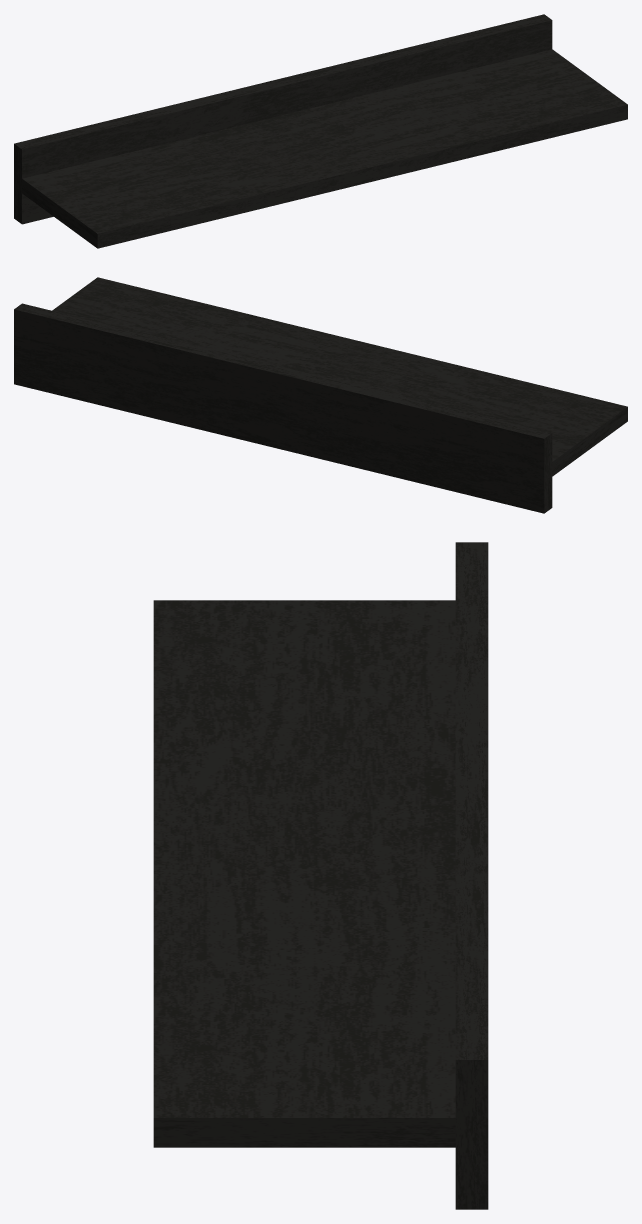
The model's file is wall_cabinet_004.fbx.
The picture shows the model from 3 angles, top to bottom: view 1: azimuth 30°, elevation 25°; view 2: azimuth 150°, elevation 25°; view 3: azimuth 270°, elevation 25°; orthographic projection. The views are drawn at different scales.
Visible parts, largest first — view 1: wall_cabinet_004; view 2: wall_cabinet_004; view 3: wall_cabinet_004.
Part boxes in pixels (x1,y1,x2,y2): wall_cabinet_004: (14,14,627,248); wall_cabinet_004: (14,277,627,513); wall_cabinet_004: (153,542,488,1209).
Bounding box in the file's own units: 156 × 42.65 × 21.06.
